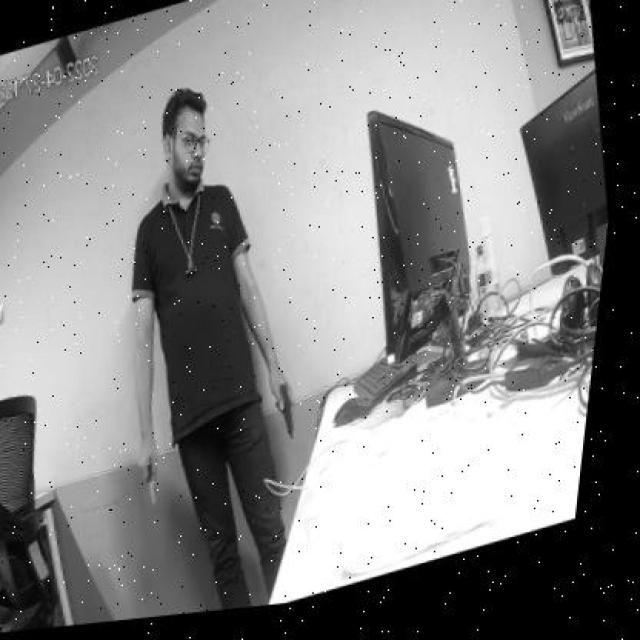weapon: (271, 379, 298, 441)
